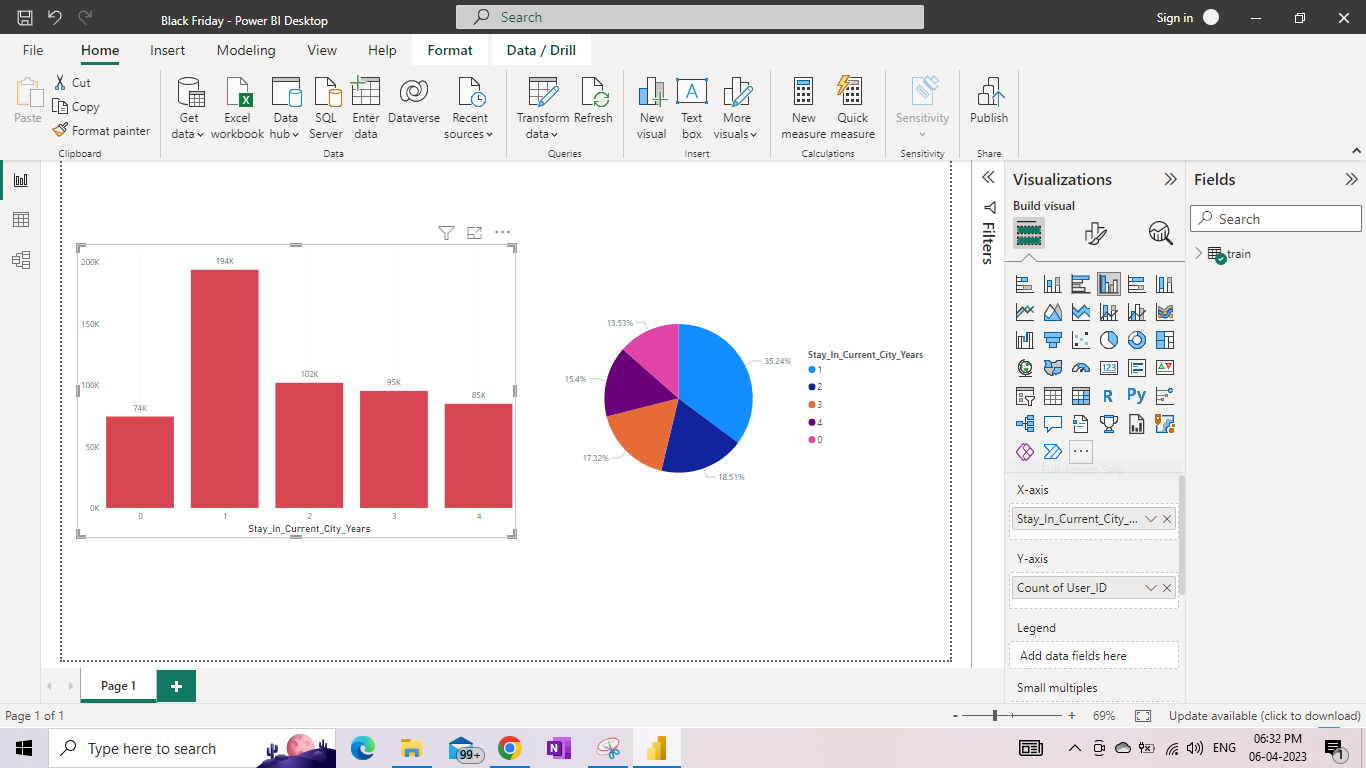

This screenshot's page, from the dashboard's own definition file:
{"tool":"powerbi","page":{"name":"Page 1","canvas":[1280,720],"ordinal":0},"visuals":[{"type":"clusteredColumnChart","fields":{"Category":["train.Stay_In_Current_City_Years"],"Y":["CountNonNull(train.User_ID)"]},"box":[21.8,120.9,631.6,423.3],"z":0},{"type":"pieChart","fields":{"Category":["train.Stay_In_Current_City_Years"],"Y":["CountNonNull(train.User_ID)"]},"box":[697.1,104.1,559.4,478.7],"z":1000}]}

Visuals, with their boxes on the page's 1280x720 design canvas (x1, y1, x2, y2). These are canvas units, not pixel positions in the 1366x768 screenshot, which may show the page scaled, cropped or inside an application window:
clusteredColumnChart - train.Stay_In_Current_City_Years x CountNonNull(train.User_ID): bbox(22, 121, 653, 544)
pieChart - train.Stay_In_Current_City_Years x CountNonNull(train.User_ID): bbox(697, 104, 1256, 583)
